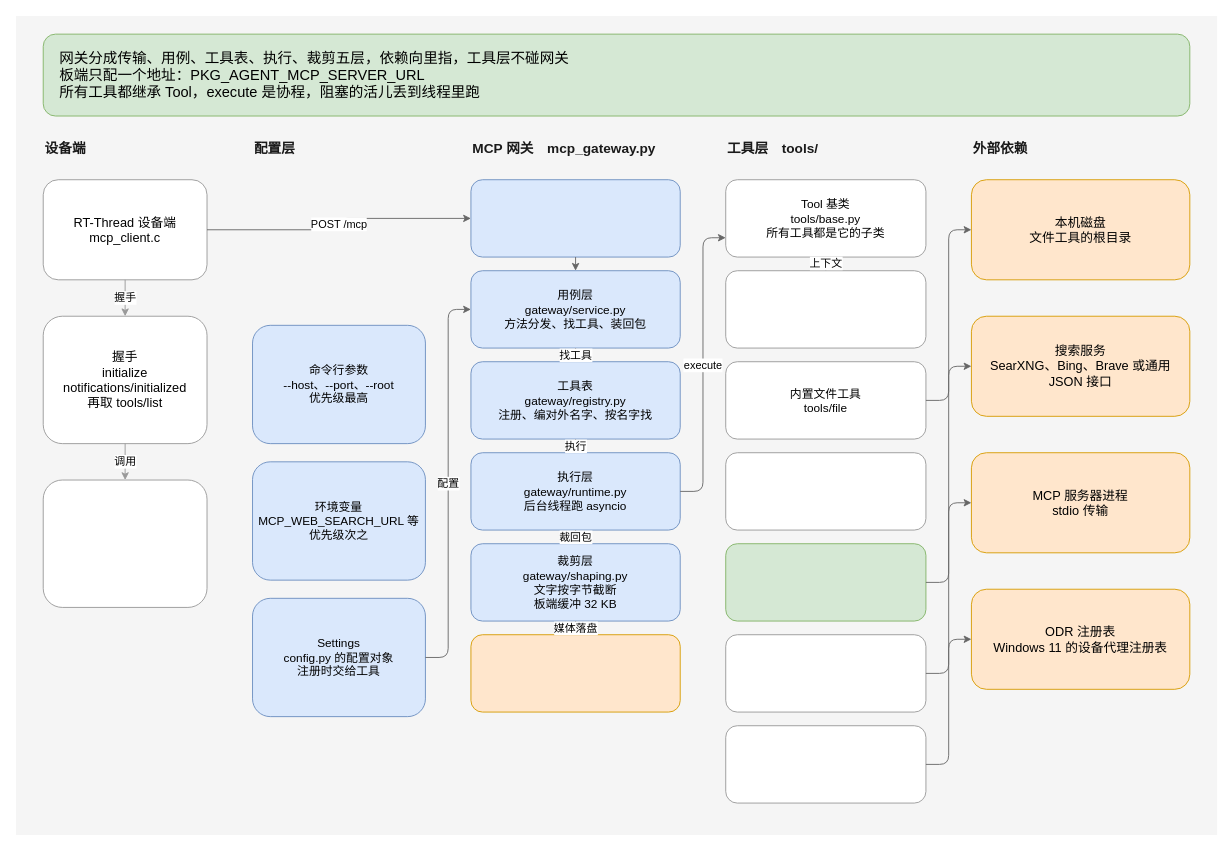
The diagram is 1232 pixels wide and 850 high, and some of its shapes have lost their labels. The shapes that lost their labels are listed below. From the top down, each one's box as (x1, y1, x2, y2) in pixels, then its label:
(470, 179, 680, 257): 传输层 gateway/transport.py HTTP 端点 /mcp 会话 ID 回带
(725, 270, 926, 348): 上下文 tools/context.py 文件服务器和配置
(725, 452, 926, 530): 用户工具 tools/user_tools
(42, 479, 207, 607): 回包渲染 文字直接拼 媒体渲染成地址
(725, 543, 926, 621): 联网搜索 web_search_tool.py
(470, 634, 680, 712): 文件服务器 图片与音频落盘 回包只留地址
(725, 634, 926, 712): Windows-MCP tools/command
(725, 725, 926, 803): ODR 服务器 tools/odr
